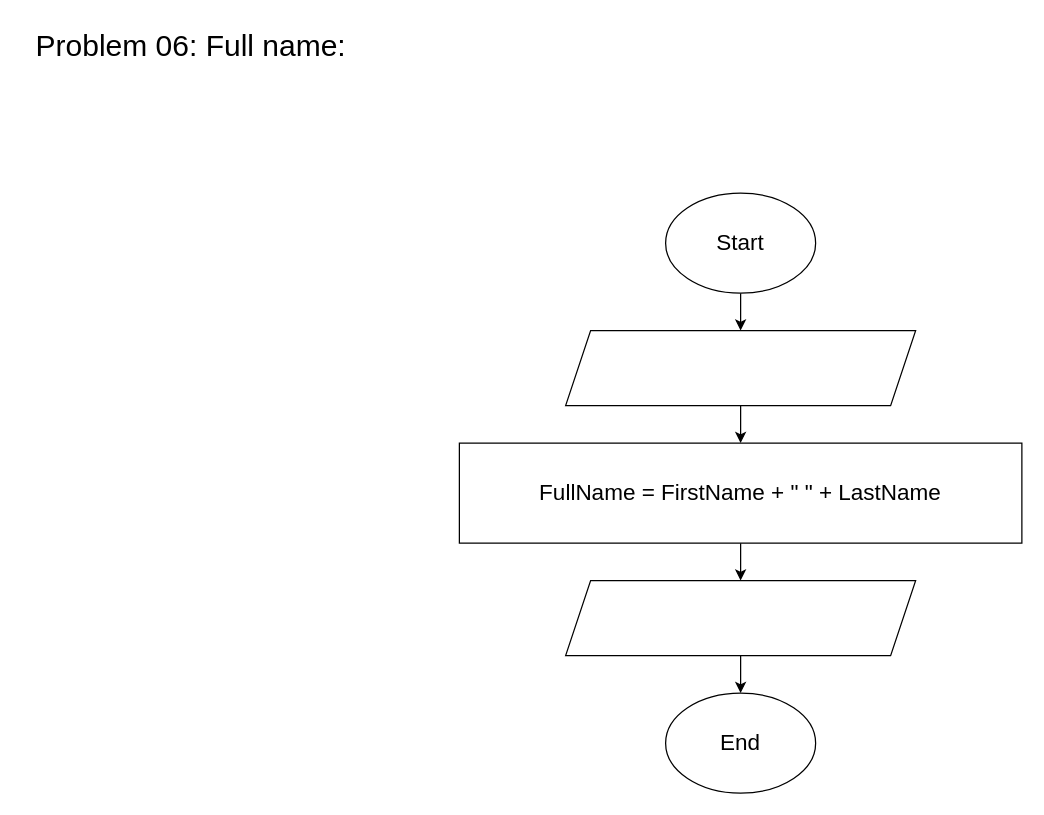
This 1044x815 diagram has some shape labels left out. The shapes that lost their labels are listed below. From the top down, each one's box as (x1, y1, x2, y2) in pixels, then its label:
(564, 329, 916, 406): Read, FirstName, LastName
(564, 579, 916, 656): Print FullName
